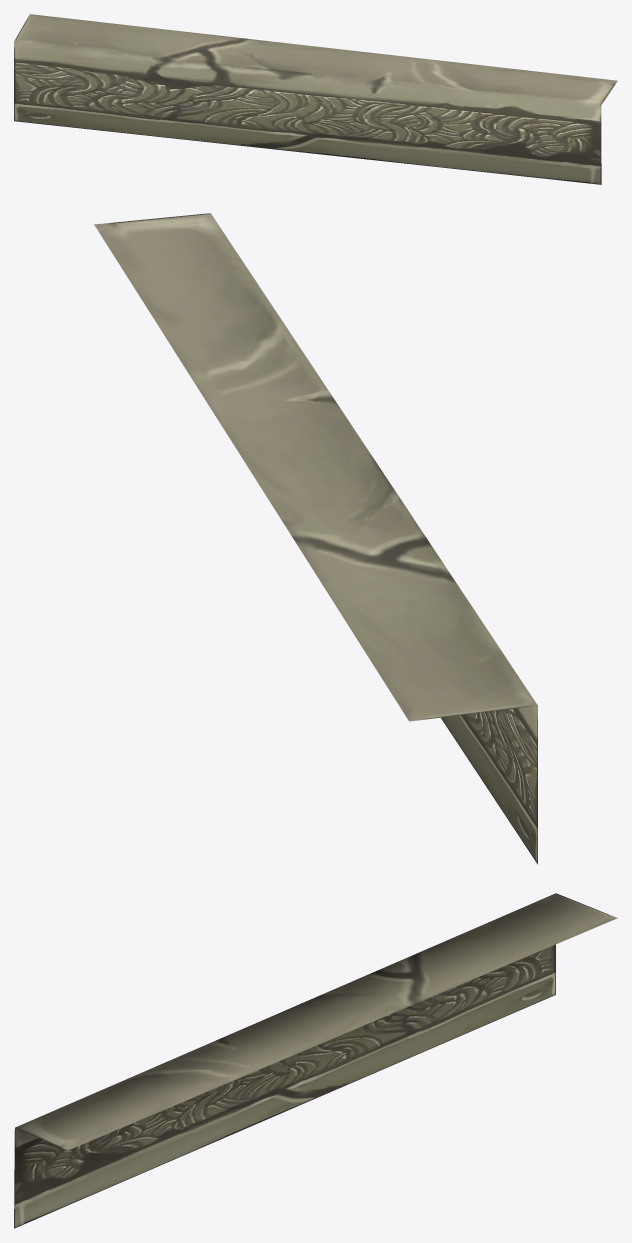
File: wall_diagonal_base4.fbx
3 renders of one model, top to bottom at view 1: azimuth 30°, elevation 25°; view 2: azimuth 150°, elevation 25°; view 3: azimuth 270°, elevation 25°, orthographic. The views are drawn at different scales.
Parts seen in each view (by area): view 1: diagonal1_v_cap11; view 2: diagonal1_v_cap11; view 3: diagonal1_v_cap11.
Part boxes in pixels (x1=…): diagonal1_v_cap11: x1=14, y1=14, x2=617, y2=184; diagonal1_v_cap11: x1=94, y1=213, x2=537, y2=864; diagonal1_v_cap11: x1=14, y1=893, x2=617, y2=1228.
Size of the model in its own units: 2.22 by 0.408 by 2.2.
